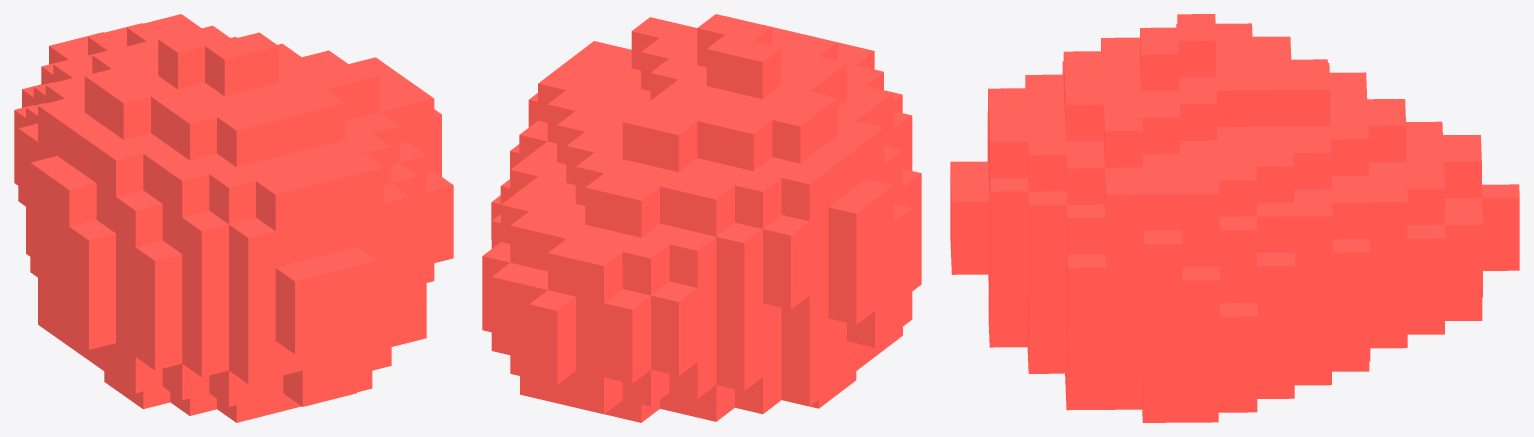
The model's file is cast.fbx.
3 views of the same model, side by side, from view 1: azimuth 30°, elevation 25°; view 2: azimuth 150°, elevation 25°; view 3: azimuth 270°, elevation 25° (orthographic).
Parts seen in each view (by area): view 1: cast; view 2: cast; view 3: cast.
Part boxes in pixels (<box>): cast: <box>14,14,453,422</box>; cast: <box>482,14,921,422</box>; cast: <box>950,14,1519,422</box>.
Bounding box in the file's own units: 32.09 × 28.14 × 44.25.
